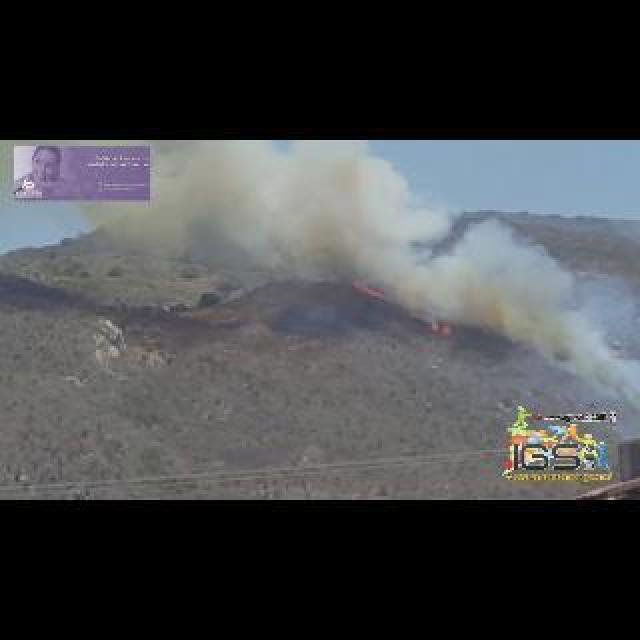fire: (149, 140, 427, 306), (428, 219, 586, 348), (352, 284, 384, 298), (430, 318, 452, 336)
